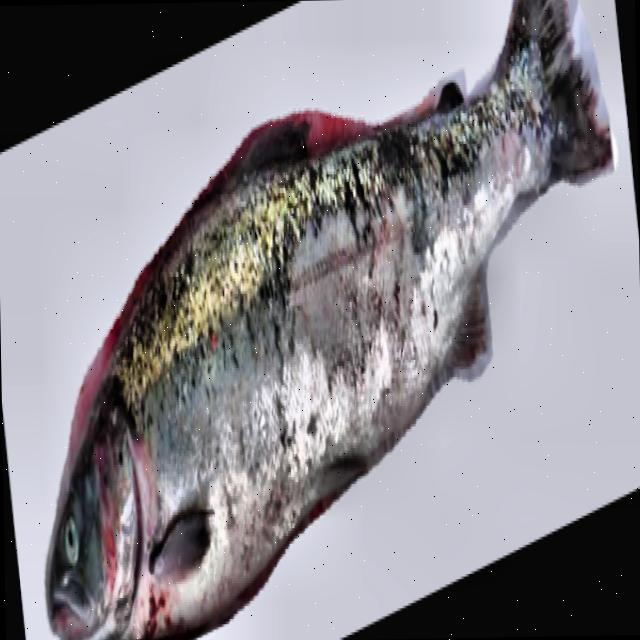mild_red: (114, 55, 553, 633)
